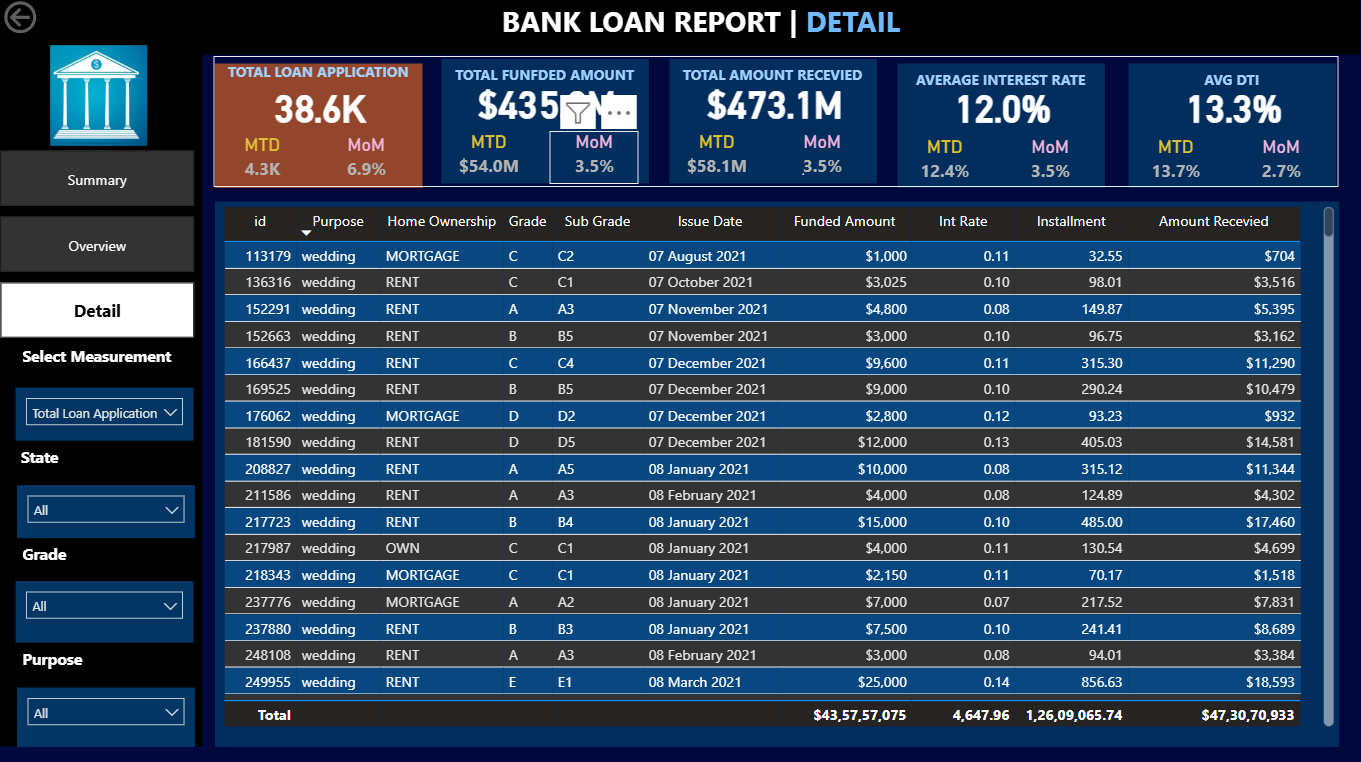

Layout of this report page (visuals, bound fields, positions):
{"tool":"powerbi","page":{"name":"Detail","canvas":[1280,720],"ordinal":2},"visuals":[{"type":"shape","box":[0,0,1279.4,55],"z":0},{"type":"shape","box":[0,40,191.4,665.7],"z":1000},{"type":"textbox","box":[39.1,0,1241,54.7],"z":2000},{"type":"group","id":"g1","title":"Group 1","box":[202.2,56.1,198,123.5],"z":3000,"group":"g4"},{"type":"shape","box":[417.4,59.4,195,117],"z":3000,"group":"g3"},{"type":"shape","box":[631.5,59.4,195,117],"z":3000,"group":"g5"},{"type":"shape","box":[203.2,62.6,195,117],"z":3000,"group":"g2"},{"type":"shape","box":[845.7,62.6,195,117],"z":3000,"group":"g6"},{"type":"shape","box":[1062.9,62.6,195,117],"z":3000,"group":"g7"},{"type":"shape","box":[203.2,193.8,1056.6,512.7],"z":3000},{"type":"group","id":"g2","title":"Group 2","box":[202.2,56.1,198,123.5],"z":3001,"group":"g1"},{"type":"actionButton","box":[0,0,100,40],"z":4000},{"type":"group","id":"g3","title":"Group 2","box":[415.8,59.4,198.5,117.2],"z":4000,"group":"g4"},{"type":"card","fields":{"Values":["financial_loan.Total Funded amount"]},"box":[417.4,76.6,196.9,45.3],"z":4000,"group":"g3"},{"type":"card","fields":{"Values":["financial_loan.TOTAL AMOUNT RECEVIED"]},"box":[631.5,76.6,196.9,45.3],"z":4000,"group":"g5"},{"type":"card","fields":{"Values":["financial_loan.Total Loan Application"]},"box":[203.2,79.7,196.9,45.3],"z":4000,"group":"g2"},{"type":"card","fields":{"Values":["financial_loan.Avg Interest Rate"]},"box":[845.7,79.8,196.9,45.3],"z":4000,"group":"g6"},{"type":"card","fields":{"Values":["financial_loan.Avg DTI"]},"box":[1062.9,79.8,196.9,45.3],"z":4000,"group":"g7"},{"type":"group","id":"g4","title":"Group 3","box":[202.2,56.1,1057.6,123.7],"z":5000},{"type":"textbox","box":[202.2,56.1,197.1,47.1],"z":5000,"group":"g2"},{"type":"textbox","box":[415.8,59.4,196.9,40.6],"z":5000,"group":"g3"},{"type":"group","id":"g5","title":"Group 2","box":[629.9,59.4,198.5,117.2],"z":5000,"group":"g4"},{"type":"textbox","box":[629.9,59.4,196.9,40.6],"z":5000,"group":"g5"},{"type":"textbox","box":[844.1,62.6,196.9,40.6],"z":5000,"group":"g6"},{"type":"textbox","box":[1061.3,62.6,196.9,40.6],"z":5000,"group":"g7"},{"type":"group","id":"g6","title":"Group 2","box":[844.1,62.6,198.5,117.2],"z":6000,"group":"g4"},{"type":"card","title":"MTD","fields":{"Values":["financial_loan.MTD FUNDED LOAN"]},"box":[419.9,126.4,82.8,50],"z":6000,"group":"g3"},{"type":"card","title":"MTD","fields":{"Values":["financial_loan.MTD Amount Recevied"]},"box":[634,126.4,82.8,50],"z":6000,"group":"g5"},{"type":"card","title":"MTD","fields":{"Values":["financial_loan.Month Loan application"]},"box":[205.8,129.5,82.8,50],"z":6000,"group":"g2"},{"type":"card","title":"MTD","fields":{"Values":["financial_loan.MTD Avg Int_Rate"]},"box":[848.2,129.6,82.8,50],"z":6000,"group":"g6"},{"type":"card","title":"MTD","fields":{"Values":["financial_loan.MTD Avg Dti"]},"box":[1065.4,129.6,82.8,50],"z":6000,"group":"g7"},{"type":"slicer","fields":{"Values":["financial_loan.address_state"]},"box":[17.2,459.5,167.2,50],"z":6000},{"type":"group","id":"g7","title":"Group 2","box":[1061.3,62.6,198.5,117.2],"z":7000,"group":"g4"},{"type":"card","title":"MoM","fields":{"Values":["financial_loan.MOM Amount Received"]},"box":[518.4,126.4,84,50],"z":7000,"group":"g3"},{"type":"card","title":"MoM","fields":{"Values":["financial_loan.MOM Amount Received"]},"box":[732.5,126.4,84,50],"z":7000,"group":"g5"},{"type":"card","title":"MoM","fields":{"Values":["financial_loan.MOM"]},"box":[304.2,129.5,84,50],"z":7000,"group":"g2"},{"type":"card","title":"MoM","fields":{"Values":["financial_loan.MOM Avg Int_Rate"]},"box":[946.7,129.6,84,50],"z":7000,"group":"g6"},{"type":"card","title":"MoM","fields":{"Values":["financial_loan.MoM Avg Dti"]},"box":[1163.9,129.6,84,50],"z":7000,"group":"g7"},{"type":"textbox","box":[15.6,417.3,57.8,42.2],"z":7000},{"type":"slicer","fields":{"Values":["financial_loan.grade"]},"box":[15.6,550.2,167.2,57.8],"z":8000},{"type":"slicer","fields":{"Values":["financial_loan.purpose"]},"box":[17.2,650.2,167.2,56.3],"z":9000},{"type":"textbox","box":[17.2,509.5,101.6,40.6],"z":10000},{"type":"textbox","box":[17.2,608,78.1,42.2],"z":11000},{"type":"slicer","fields":{"Values":["Select Measuement.Select Measuement"]},"box":[15.6,367.3,167.2,50],"z":12000},{"type":"textbox","box":[17.2,323.5,156.3,50],"z":13000},{"type":"tableEx","fields":{"Values":["financial_loan.id","financial_loan.purpose","financial_loan.home_ownership","financial_loan.grade","financial_loan.sub_grade","financial_loan.issue_date","financial_loan.Total Funded amount","Sum(financial_loan.int_rate)","Sum(financial_loan.installment)","financial_loan.TOTAL AMOUNT RECEVIED"]},"box":[206.3,193.8,1053.5,498.6],"z":14000},{"type":"pageNavigator","box":[1.6,145.4,182.9,178.2],"z":14001},{"type":"image","box":[1.6,40.6,184.4,104.7],"z":14002}]}

Visuals, with their boxes in screenshot pixels (x1, y1, x2, y2), scaled from the page's 1280x720 canvas onto the 1361x762 screenshot:
shape: (left=0, top=0, right=1360, bottom=58)
shape: (left=0, top=42, right=204, bottom=747)
textbox: (left=42, top=0, right=1360, bottom=58)
"Group 1" group: (left=215, top=59, right=426, bottom=190)
shape: (left=444, top=63, right=651, bottom=187)
shape: (left=671, top=63, right=879, bottom=187)
shape: (left=216, top=66, right=423, bottom=190)
shape: (left=899, top=66, right=1107, bottom=190)
shape: (left=1130, top=66, right=1338, bottom=190)
shape: (left=216, top=205, right=1340, bottom=748)
"Group 2" group: (left=215, top=59, right=426, bottom=190)
actionButton: (left=0, top=0, right=106, bottom=42)
"Group 2" group: (left=442, top=63, right=653, bottom=187)
card - financial_loan.Total Funded amount: (left=444, top=81, right=653, bottom=129)
card - financial_loan.TOTAL AMOUNT RECEVIED: (left=671, top=81, right=881, bottom=129)
card - financial_loan.Total Loan Application: (left=216, top=84, right=425, bottom=132)
card - financial_loan.Avg Interest Rate: (left=899, top=84, right=1109, bottom=132)
card - financial_loan.Avg DTI: (left=1130, top=84, right=1340, bottom=132)
"Group 3" group: (left=215, top=59, right=1340, bottom=190)
textbox: (left=215, top=59, right=425, bottom=109)
textbox: (left=442, top=63, right=651, bottom=106)
"Group 2" group: (left=670, top=63, right=881, bottom=187)
textbox: (left=670, top=63, right=879, bottom=106)
textbox: (left=898, top=66, right=1107, bottom=109)
textbox: (left=1128, top=66, right=1338, bottom=109)
"Group 2" group: (left=898, top=66, right=1109, bottom=190)
"MTD" card: (left=446, top=134, right=535, bottom=187)
"MTD" card: (left=674, top=134, right=762, bottom=187)
"MTD" card: (left=219, top=137, right=307, bottom=190)
"MTD" card: (left=902, top=137, right=990, bottom=190)
"MTD" card: (left=1133, top=137, right=1221, bottom=190)
slicer - financial_loan.address_state: (left=18, top=486, right=196, bottom=539)
"Group 2" group: (left=1128, top=66, right=1340, bottom=190)
"MoM" card: (left=551, top=134, right=641, bottom=187)
"MoM" card: (left=779, top=134, right=868, bottom=187)
"MoM" card: (left=323, top=137, right=413, bottom=190)
"MoM" card: (left=1007, top=137, right=1096, bottom=190)
"MoM" card: (left=1238, top=137, right=1327, bottom=190)
textbox: (left=17, top=442, right=78, bottom=486)
slicer - financial_loan.grade: (left=17, top=582, right=194, bottom=643)
slicer - financial_loan.purpose: (left=18, top=688, right=196, bottom=748)
textbox: (left=18, top=539, right=126, bottom=582)
textbox: (left=18, top=643, right=101, bottom=688)
slicer - Select Measuement.Select Measuement: (left=17, top=389, right=194, bottom=442)
textbox: (left=18, top=342, right=184, bottom=395)
tableEx - financial_loan.id x financial_loan.purpose: (left=219, top=205, right=1340, bottom=733)
pageNavigator: (left=2, top=154, right=196, bottom=342)
image: (left=2, top=43, right=198, bottom=154)
